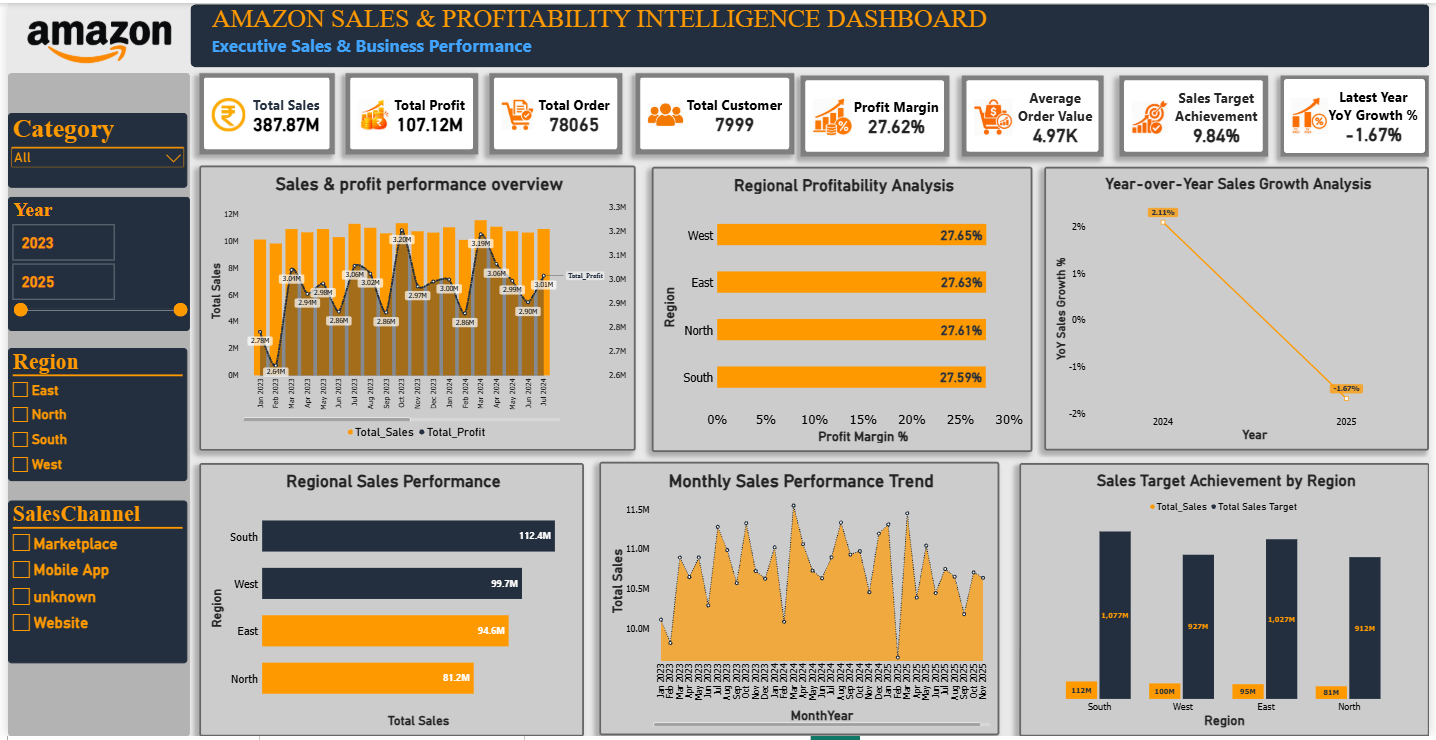

The dashboard page shown, as its layout file describes it:
{"tool":"powerbi","page":{"name":"sales & business performance","canvas":[3100,1600],"ordinal":0},"visuals":[{"type":"textbox","box":[10,0,280,280],"z":0},{"type":"shape","box":[0,152.1,397.1,1447.5],"z":1000},{"type":"shape","box":[397.1,2.8,2703.5,138],"z":2000},{"type":"image","box":[5.5,30,385.7,108.7],"z":3000},{"type":"textbox","box":[445,2.8,1847.4,138],"z":4000},{"type":"cardVisual","fields":{"Data":["Sales.Total_Sales"]},"box":[416.8,152.1,295.7,177.4],"z":5000},{"type":"cardVisual","fields":{"Data":["Sales.Total_Profit"]},"box":[735,152.1,289.4,177.4],"z":6000},{"type":"cardVisual","fields":{"Data":["Sales.Total_Customer"]},"box":[1368.6,152.1,346.7,177.4],"z":7000},{"type":"cardVisual","fields":{"Data":["Sales.profit_margin %"]},"box":[1729.1,157.7,324.9,177.4],"z":8000},{"type":"cardVisual","fields":{"Data":["Calendar.Latest Year YoY Growth %"]},"box":[2776.7,157.7,323.9,177.4],"z":9000},{"type":"cardVisual","fields":{"Data":["Sales.Average Order Value"]},"box":[2081.1,157.7,309.8,177.4],"z":10000},{"type":"cardVisual","fields":{"Data":["Sales.Total_Order"]},"box":[1050.4,152.1,290.1,177.4],"z":11000},{"type":"cardVisual","fields":{"Data":["Targets.Sales_Target Achievement %"]},"box":[2424.7,157.7,324.9,177.4],"z":12000},{"type":"lineClusteredColumnComboChart","title":"Sales & profit performance overview","fields":{"Category":["Calendar.MonthYear"],"Y":["Sales.Total_Sales"],"Y2":["Sales.Total_Profit"]},"box":[416.8,354.8,951.9,622.4],"z":13000},{"type":"lineChart","title":"Monthly Sales Performance Trend","fields":{"Category":["Calendar.MonthYear"],"Y":["Sales.Total_Sales"]},"box":[1289.5,1000.3,873,597],"z":14000},{"type":"lineChart","title":"Year-over-Year Sales Growth Analysis","fields":{"Category":["Calendar.Year"],"Y":["Calendar.YoY Sales Growth %"]},"box":[2261.4,357.6,839.2,619.6],"z":15000},{"type":"clusteredBarChart","title":"Regional Sales Performance","fields":{"Category":["Regions.Region"],"Y":["Sales.Total_Sales"]},"box":[416.8,1002.5,839.2,597],"z":16000},{"type":"clusteredColumnChart","title":"Sales Target Achievement by Region","fields":{"Category":["Regions.Region"],"Y":["Sales.Total_Sales","Targets.Total Sales Target"]},"box":[2205,1002.5,895.5,597],"z":17000},{"type":"clusteredBarChart","title":"Regional Profitability Analysis","fields":{"Category":["Regions.Region"],"Y":["Sales.profit_margin %"]},"box":[1405.3,357.6,830.8,622.4],"z":18000},{"type":"slicer","fields":{"Values":["Calendar.Year"]},"box":[0,422.4,397.1,292.9],"z":19000},{"type":"slicer","fields":{"Values":["Regions.Region"]},"box":[0,751.9,391.4,290.1],"z":20000},{"type":"slicer","fields":{"Values":["Sales.SalesChannel"]},"box":[0,1084.2,391.4,354.8],"z":21000},{"type":"slicer","fields":{"Values":["Products.Category"]},"box":[0,239.4,391.4,163.3],"z":22000}]}

Visuals, with their boxes in screenshot pixels (x1, y1, x2, y2), scaled from the page's 3100x1600 canvas onto the 1436x740 screenshot:
textbox: (5,0,134,130)
shape: (0,70,184,739)
shape: (184,1,1435,65)
image: (3,14,181,64)
textbox: (206,1,1062,65)
cardVisual - Sales.Total_Sales: (193,70,330,152)
cardVisual - Sales.Total_Profit: (340,70,475,152)
cardVisual - Sales.Total_Customer: (634,70,795,152)
cardVisual - Sales.profit_margin %: (801,73,951,155)
cardVisual - Calendar.Latest Year YoY Growth %: (1286,73,1435,155)
cardVisual - Sales.Average Order Value: (964,73,1108,155)
cardVisual - Sales.Total_Order: (487,70,621,152)
cardVisual - Targets.Sales_Target Achievement %: (1123,73,1274,155)
"Sales & profit performance overview" lineClusteredColumnComboChart: (193,164,634,452)
"Monthly Sales Performance Trend" lineChart: (597,463,1002,739)
"Year-over-Year Sales Growth Analysis" lineChart: (1048,165,1435,452)
"Regional Sales Performance" clusteredBarChart: (193,464,582,739)
"Sales Target Achievement by Region" clusteredColumnChart: (1021,464,1435,739)
"Regional Profitability Analysis" clusteredBarChart: (651,165,1036,453)
slicer - Calendar.Year: (0,195,184,331)
slicer - Regions.Region: (0,348,181,482)
slicer - Sales.SalesChannel: (0,501,181,666)
slicer - Products.Category: (0,111,181,186)
